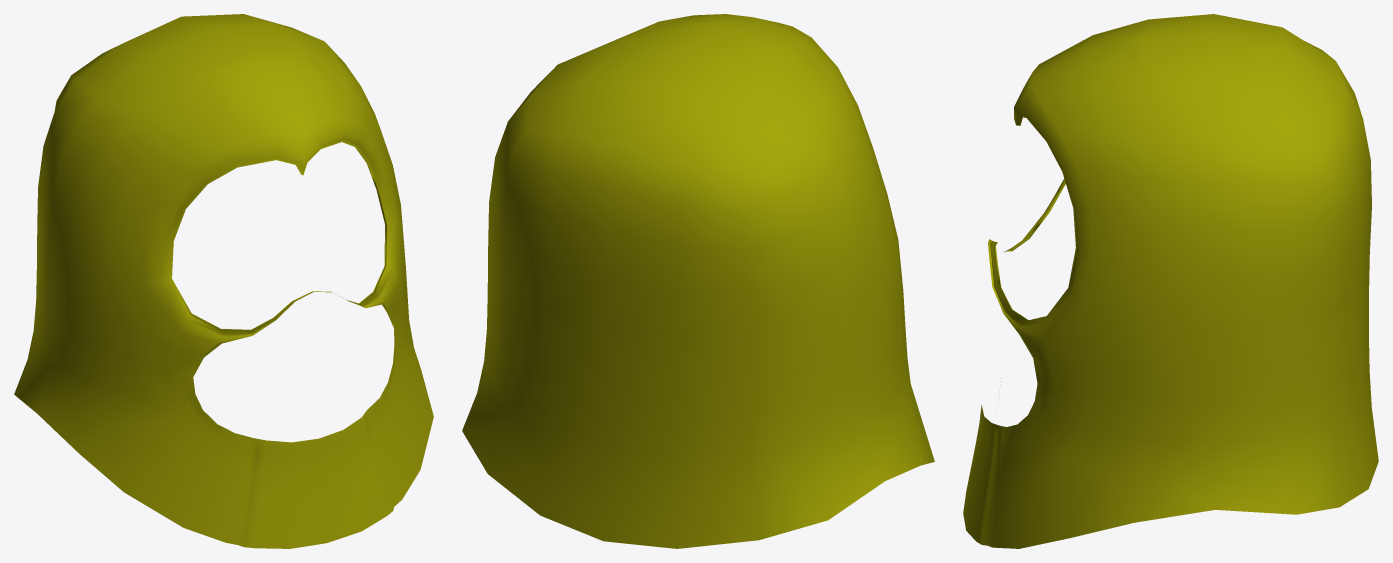
Rendered from head_268.glb.
3 views of the same model, side by side, from view 1: azimuth 30°, elevation 25°; view 2: azimuth 150°, elevation 25°; view 3: azimuth 270°, elevation 25° (orthographic). The views are drawn at different scales.
Parts seen in each view (by area): view 1: head; view 2: head; view 3: head.
Part boxes in pixels (x1,y1,x2,y2): head: (14, 14, 433, 548); head: (462, 14, 934, 548); head: (963, 14, 1378, 548).
Bounding box in the file's own units: 0.2316 × 0.2712 × 0.2134.
